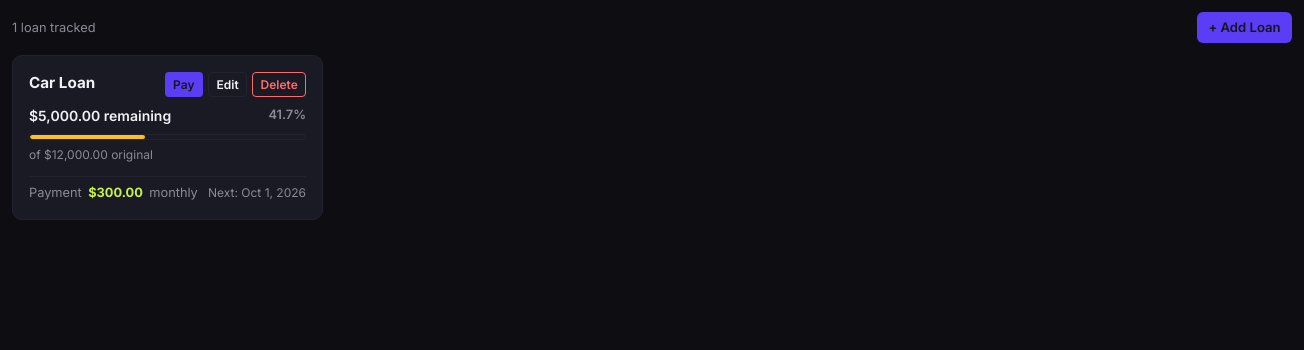
Loans — RS-13 inline payment › shows remaining-after preview that updates as amount changes
The image size is (1304, 350).
Click the button "Pay" at (184, 85), box [165,72,203,97]
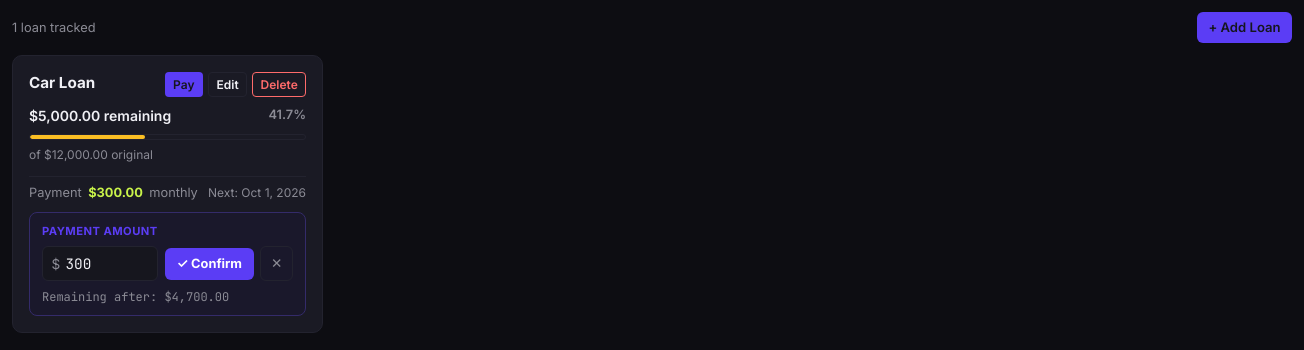
Replace the text in the number field with class "loan-inline-pay__input" with "500" at (100, 264), box [42,246,158,281]
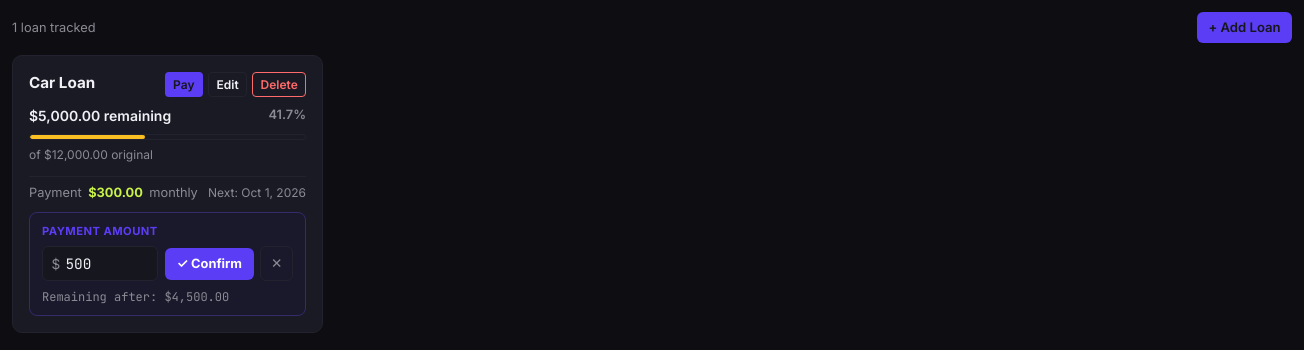
Expected: the text with class "loan-inline-pay__preview" shows "4,500", [42,289,229,305]
